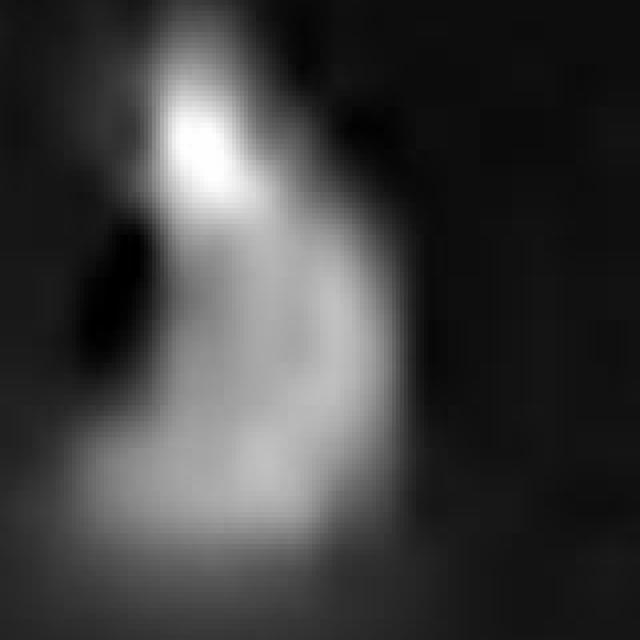person: (85, 1, 421, 614)
